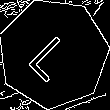L_NE: (25, 25, 82, 83)
